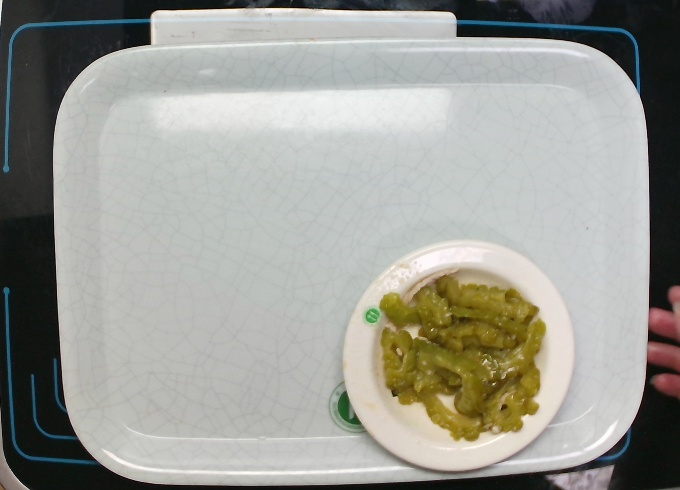WCQzf-Kuan_Bian_Yuan_Die: (341, 240, 570, 476)
